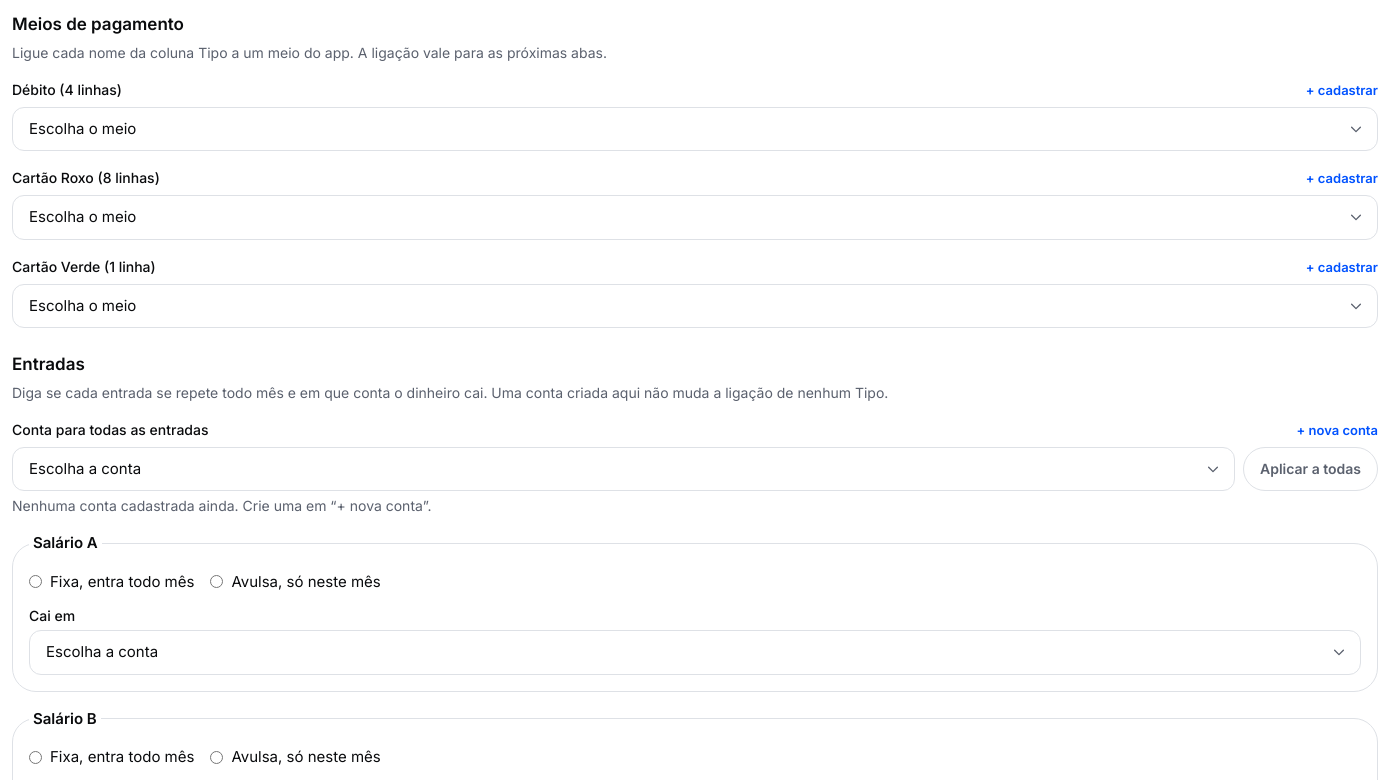
Scenario: PassoPendencias — nenhuma conta ainda (IMP-04, AC 12) › a dica some quando a conta é criada
Click the button "+ nova conta". click: (1337, 430)
box: [1296,418,1378,442]
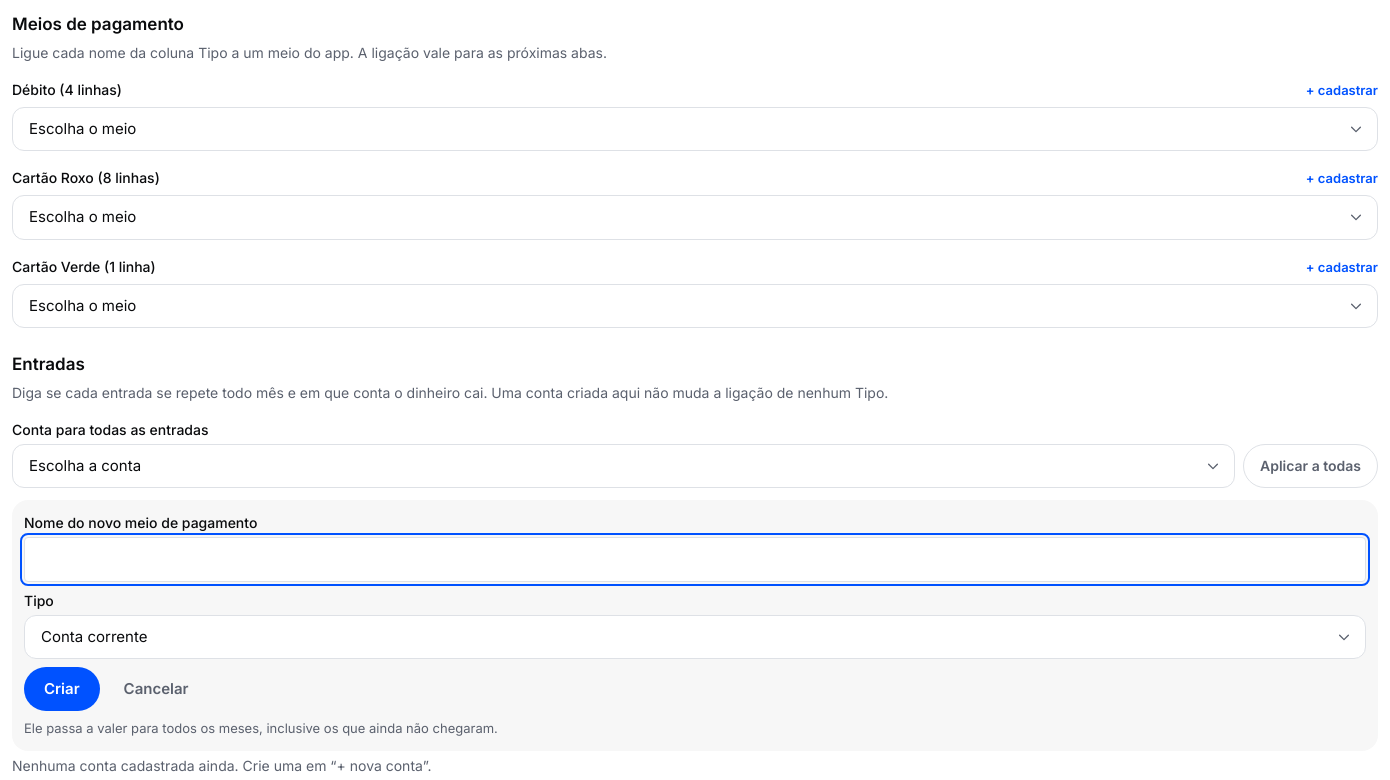
Type "Conta Nova" into the field labelled "Nome do novo meio de pagamento". click: (695, 559)
box: [24,537,1366,582]
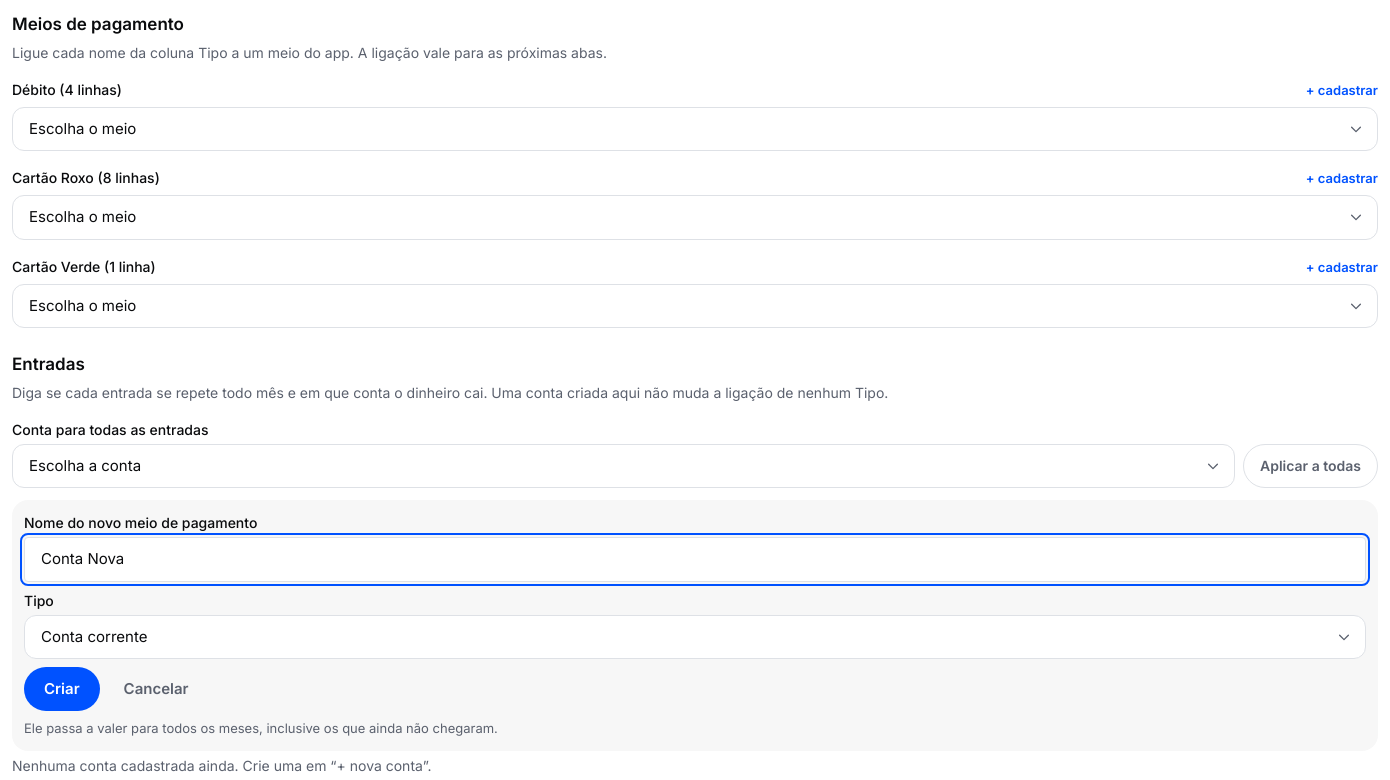
Click the button "Criar". click: (62, 689)
box: [24,667,100,711]
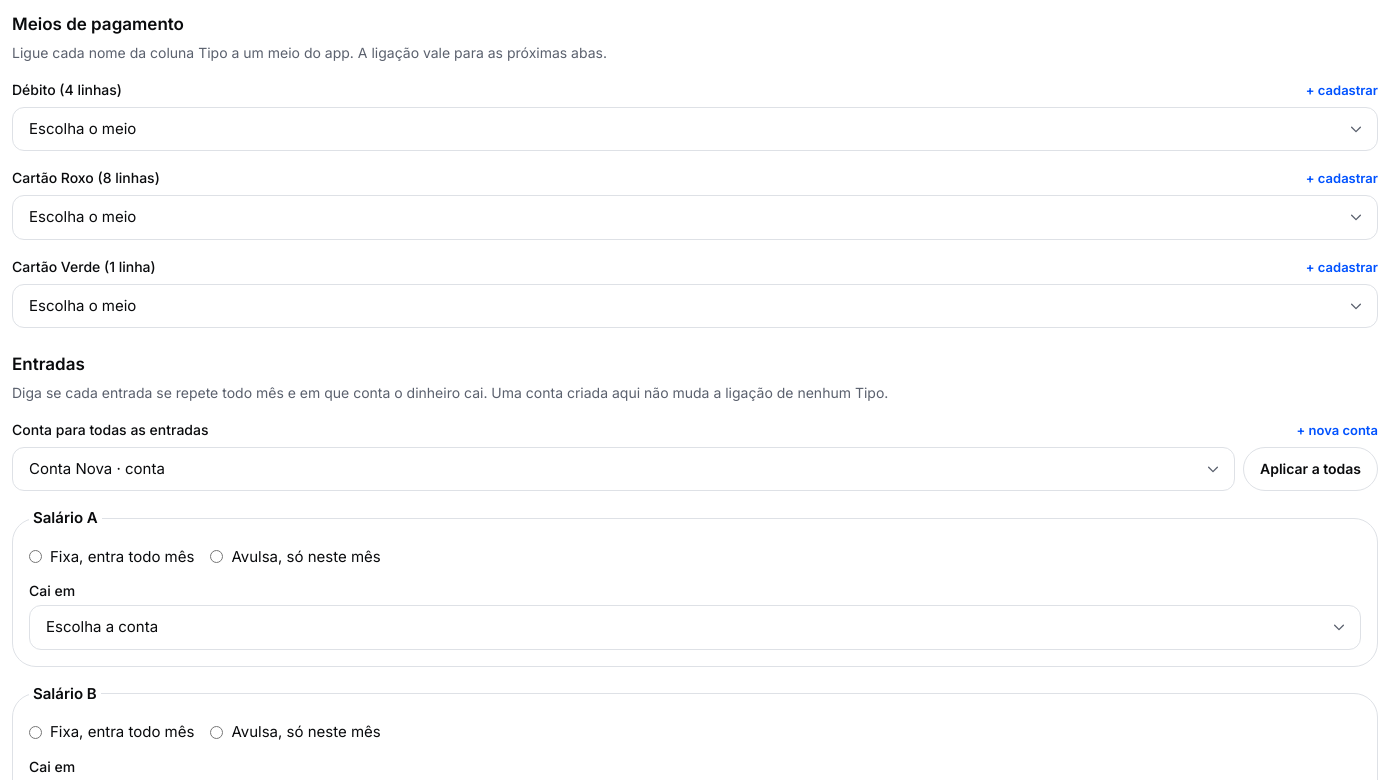
expect the text "Nenhuma conta cadastrada ainda. Crie uma em “+ nova conta”." is gone: met
